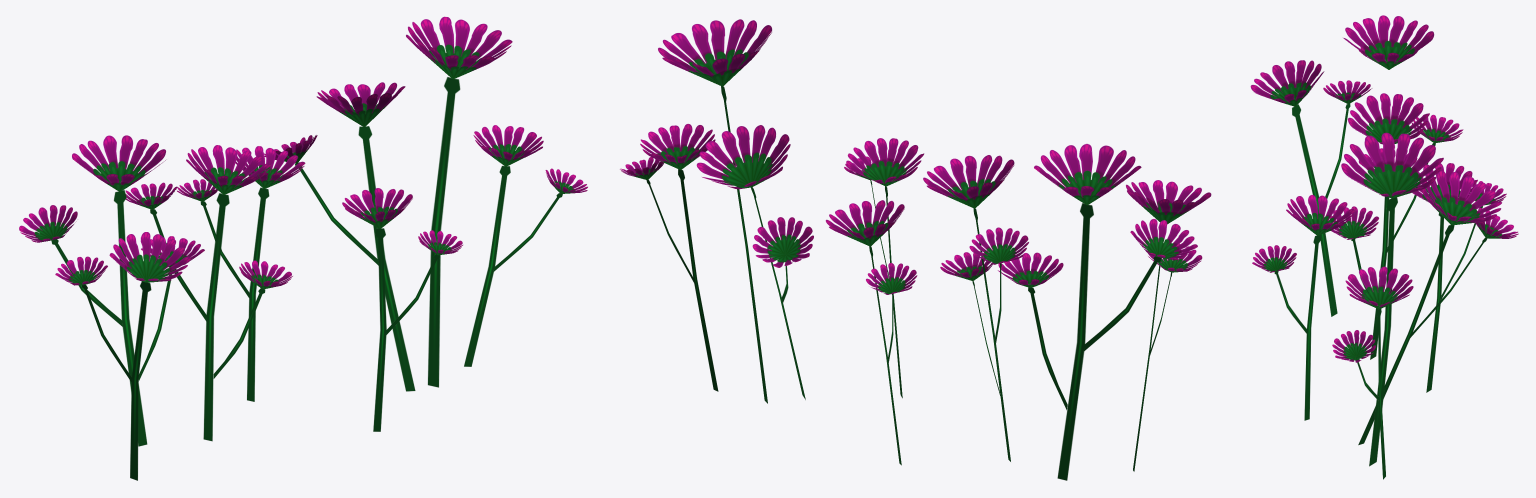
File: Flower1.glb
3 views of the same model, side by side, from view 1: azimuth 30°, elevation 25°; view 2: azimuth 150°, elevation 25°; view 3: azimuth 270°, elevation 25° (orthographic). The views are drawn at different scales.
Parts seen in each view (by area): view 1: Flower_01c; view 2: Flower_01c; view 3: Flower_01c.
Boxes of the visible parts, x1,y1,x2,y2 form: Flower_01c: (19,16,587,480); Flower_01c: (620,19,1211,480); Flower_01c: (1250,15,1518,479).
Size of the model in its own units: 42.96 by 26.06 by 19.6.
Materials: 1 (1 with a texture image).
